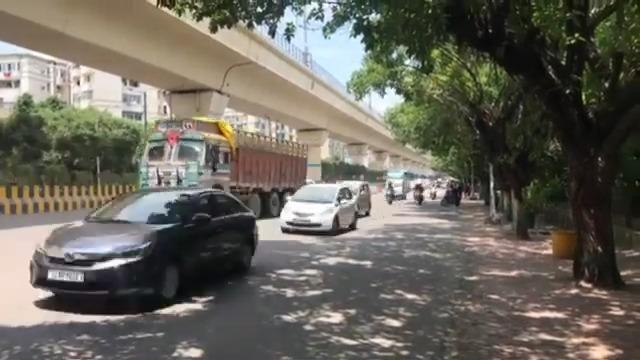Bike: (413, 182, 424, 204), (385, 180, 395, 204), (429, 180, 437, 200)
Truck: (134, 115, 309, 216)
